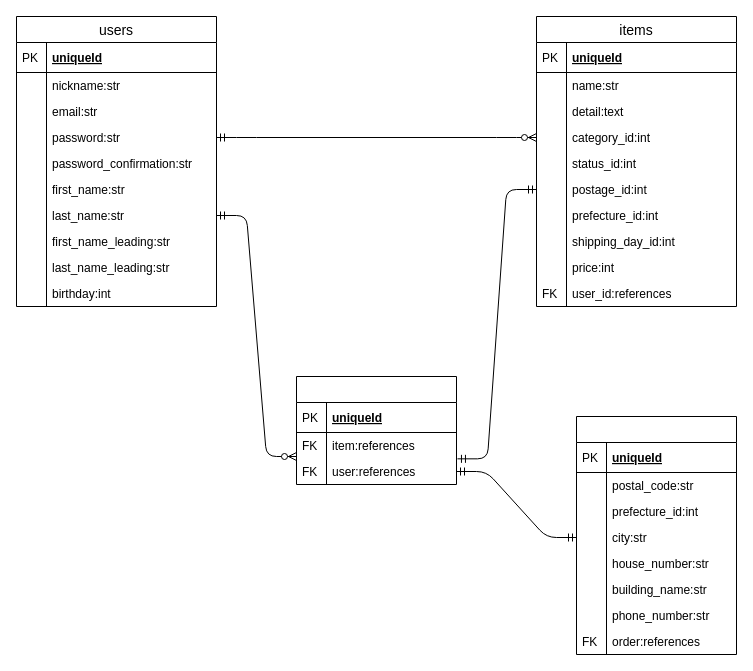
The diagram is 753 pixels wide and 671 high, and some of its shapes have lost their labels. The shapes that lost their labels are listed below. From the top down, each one's box as (x1, y1, x2, y2) in pixels, then its label:
(296, 376, 456, 484): orders
(576, 416, 736, 654): shippings
